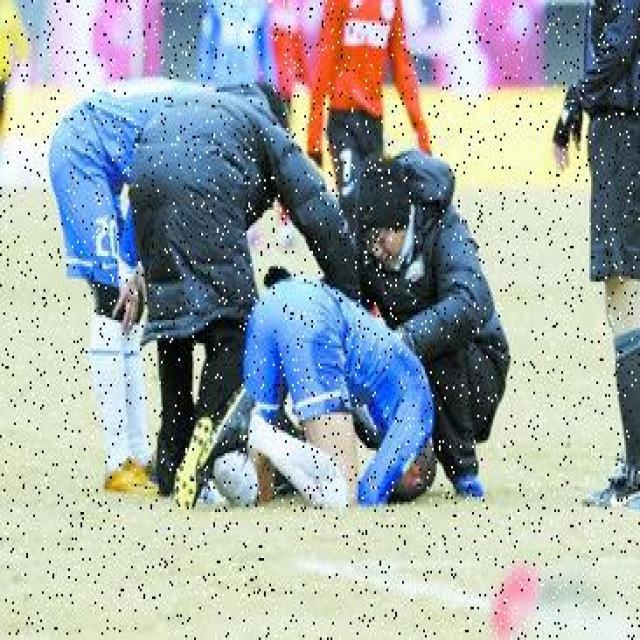fall: (178, 300, 428, 504)
